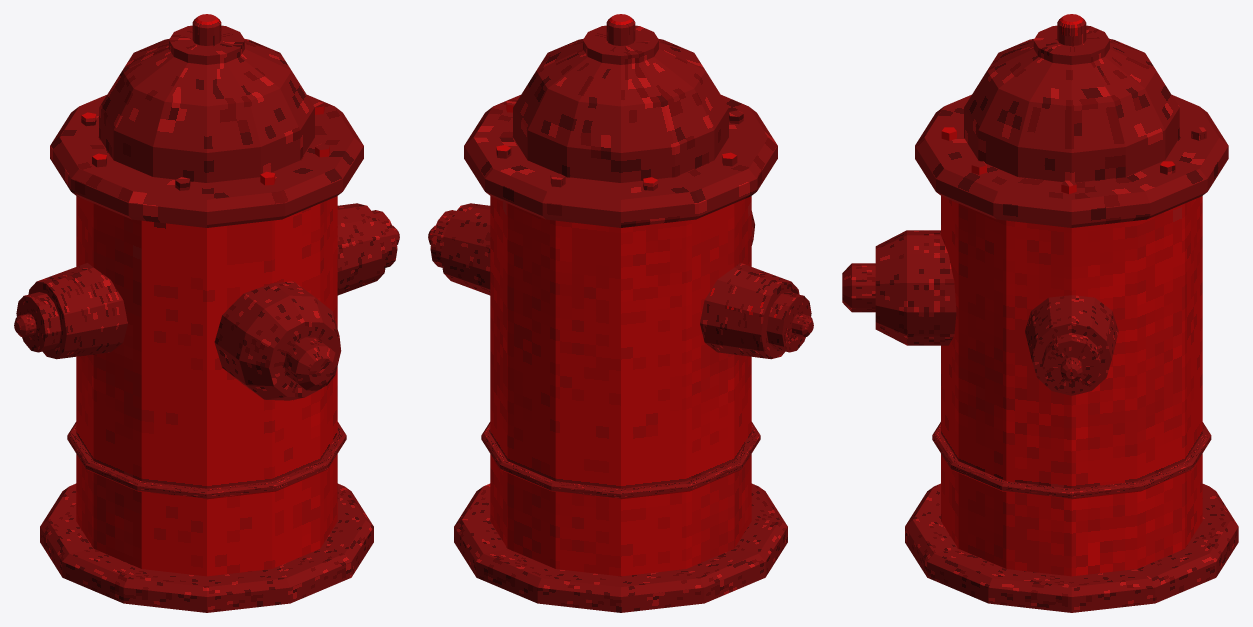
File: hidrante.fbx
The picture shows the model from 3 angles, left to right: view 1: azimuth 30°, elevation 25°; view 2: azimuth 150°, elevation 25°; view 3: azimuth 270°, elevation 25°; orthographic projection.
Visible parts, largest first — view 1: Hidrante; view 2: Hidrante; view 3: Hidrante.
Boxes of the visible parts, <box> form: Hidrante: <box>14,14,399,612</box>; Hidrante: <box>428,14,813,612</box>; Hidrante: <box>842,14,1238,612</box>.
Bounding box in the file's own units: 60.61 × 82.05 × 54.76.
1 material, 1 textured.
